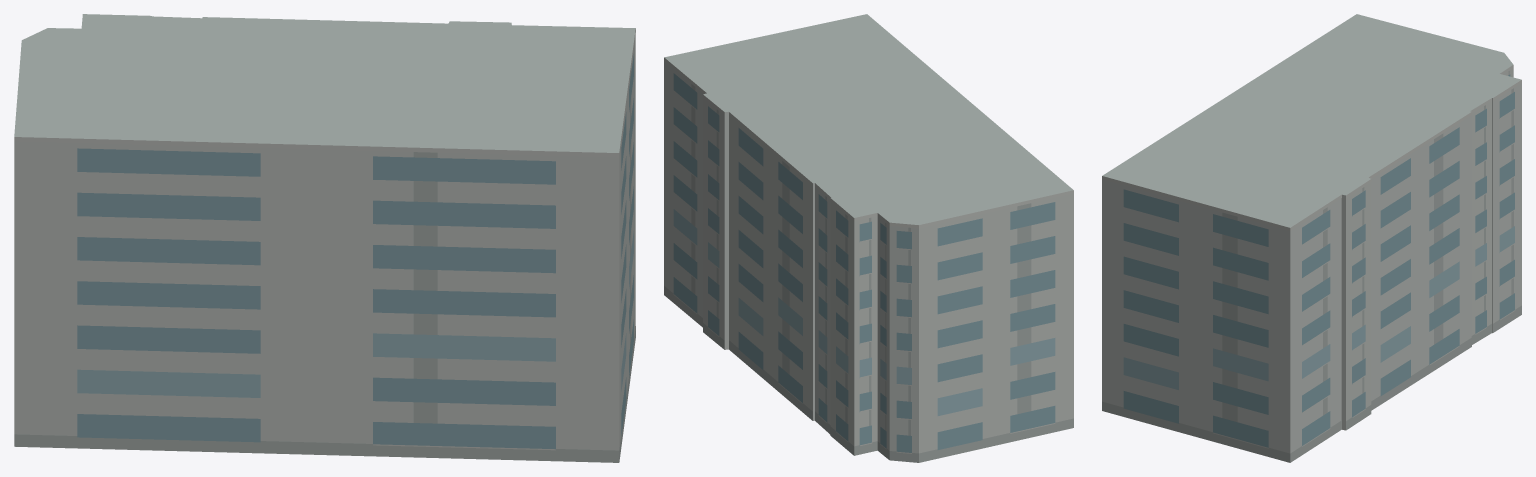
Rendered from survey-upis-32669626.glb.
3 renders of one model, left to right at view 1: azimuth 30°, elevation 25°; view 2: azimuth 150°, elevation 25°; view 3: azimuth 270°, elevation 25°, orthographic. The views are drawn at different scales.
Visible parts, largest first — view 1: survey-upis-32669626.tmp; view 2: survey-upis-32669626.tmp; view 3: survey-upis-32669626.tmp.
Boxes of the visible parts, left/top/right/bottom form: survey-upis-32669626.tmp: left=14, top=14, right=635, bottom=462; survey-upis-32669626.tmp: left=664, top=14, right=1073, bottom=462; survey-upis-32669626.tmp: left=1102, top=14, right=1521, bottom=462.
Bounding box in the file's own units: 33.38 × 17.1 × 27.69.
